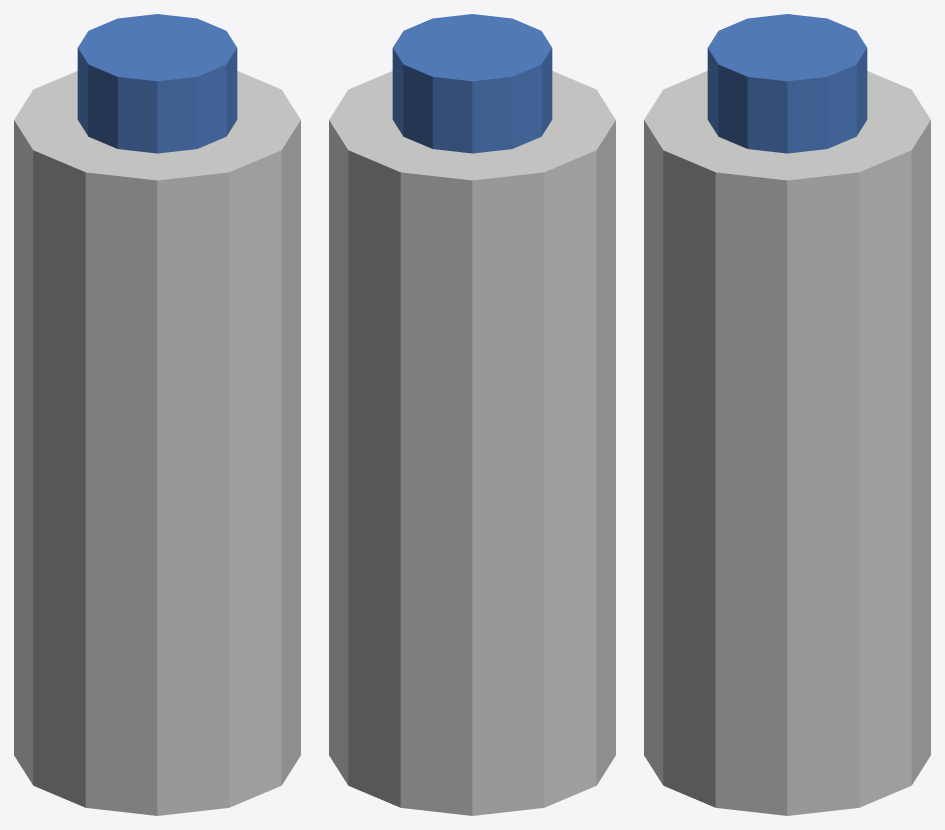
File: sm_product_milk_bottle.glb
3 views of the same model, side by side, from view 1: azimuth 30°, elevation 25°; view 2: azimuth 150°, elevation 25°; view 3: azimuth 270°, elevation 25° (orthographic).
Parts seen in each view (by area): view 1: milk_bottle_0, milk_bottle_1; view 2: milk_bottle_0, milk_bottle_1; view 3: milk_bottle_0, milk_bottle_1.
Part boxes in pixels (<box>): milk_bottle_0: <box>14,71,300,815</box>; milk_bottle_1: <box>77,14,237,153</box>; milk_bottle_0: <box>329,71,615,815</box>; milk_bottle_1: <box>392,14,552,153</box>; milk_bottle_0: <box>644,71,930,815</box>; milk_bottle_1: <box>707,14,867,153</box>.
Size of what is drawn, in the model's own units: 0.09 by 0.245 by 0.09.
